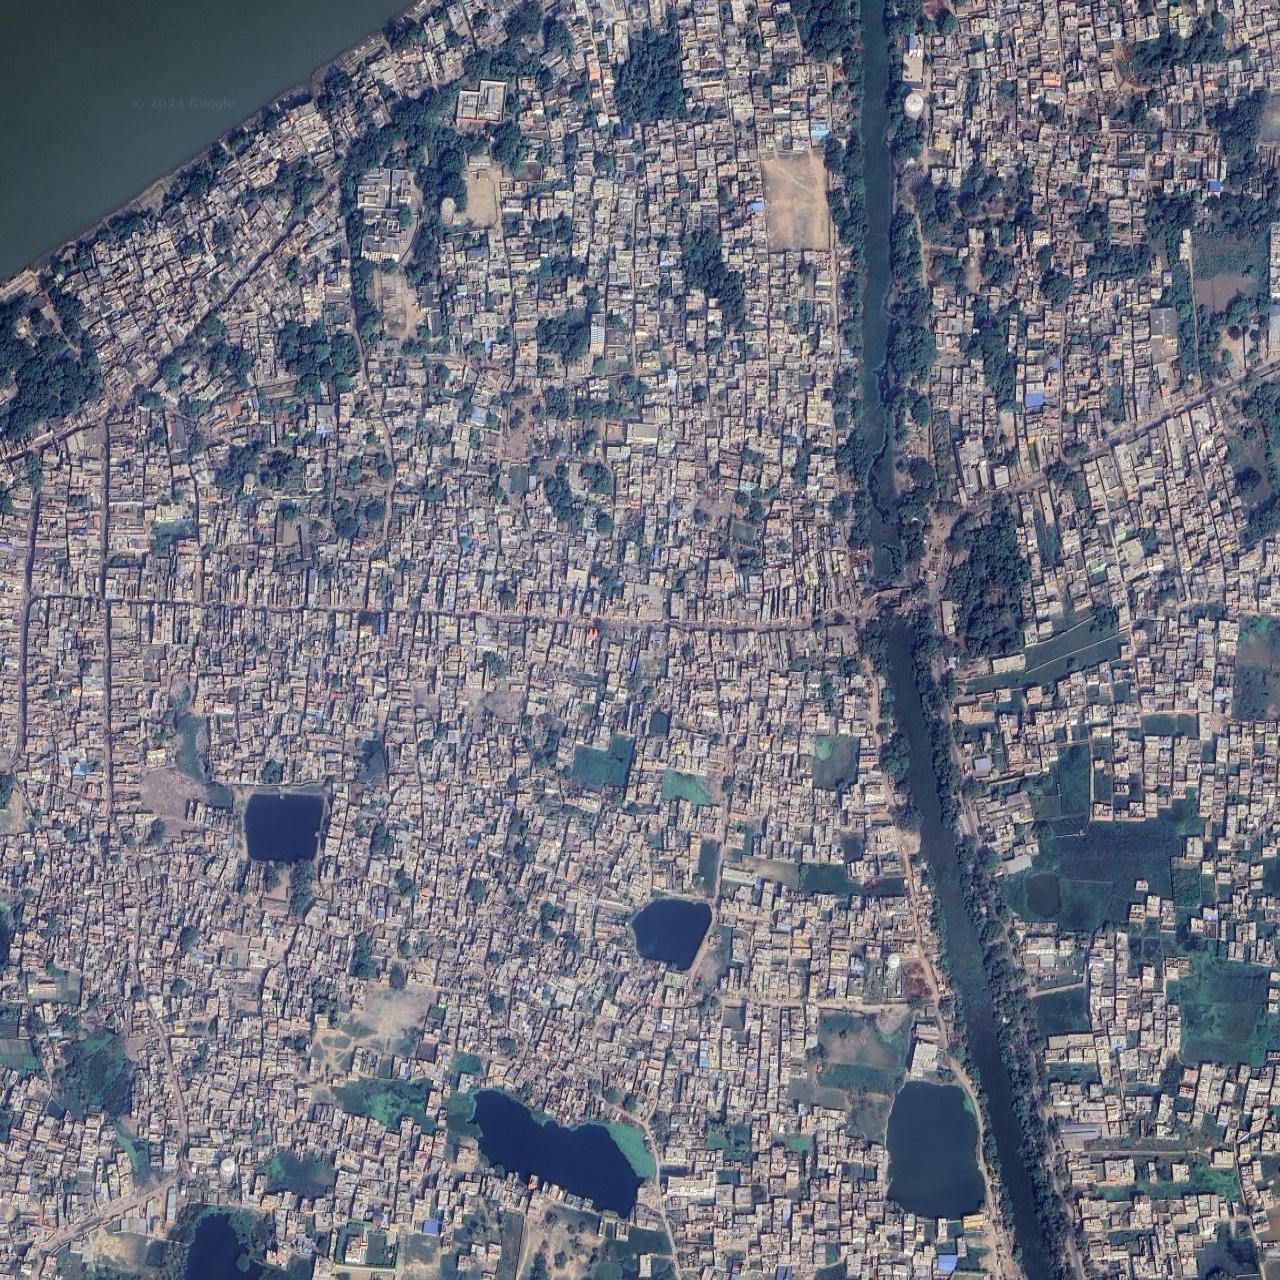house: (0, 275, 510, 1280), (402, 0, 905, 999), (890, 0, 1280, 933), (465, 918, 955, 1280), (1037, 933, 1280, 1280), (53, 95, 320, 388), (425, 907, 680, 1123), (305, 0, 527, 109), (340, 93, 455, 206)
water: (1, 0, 408, 279)
